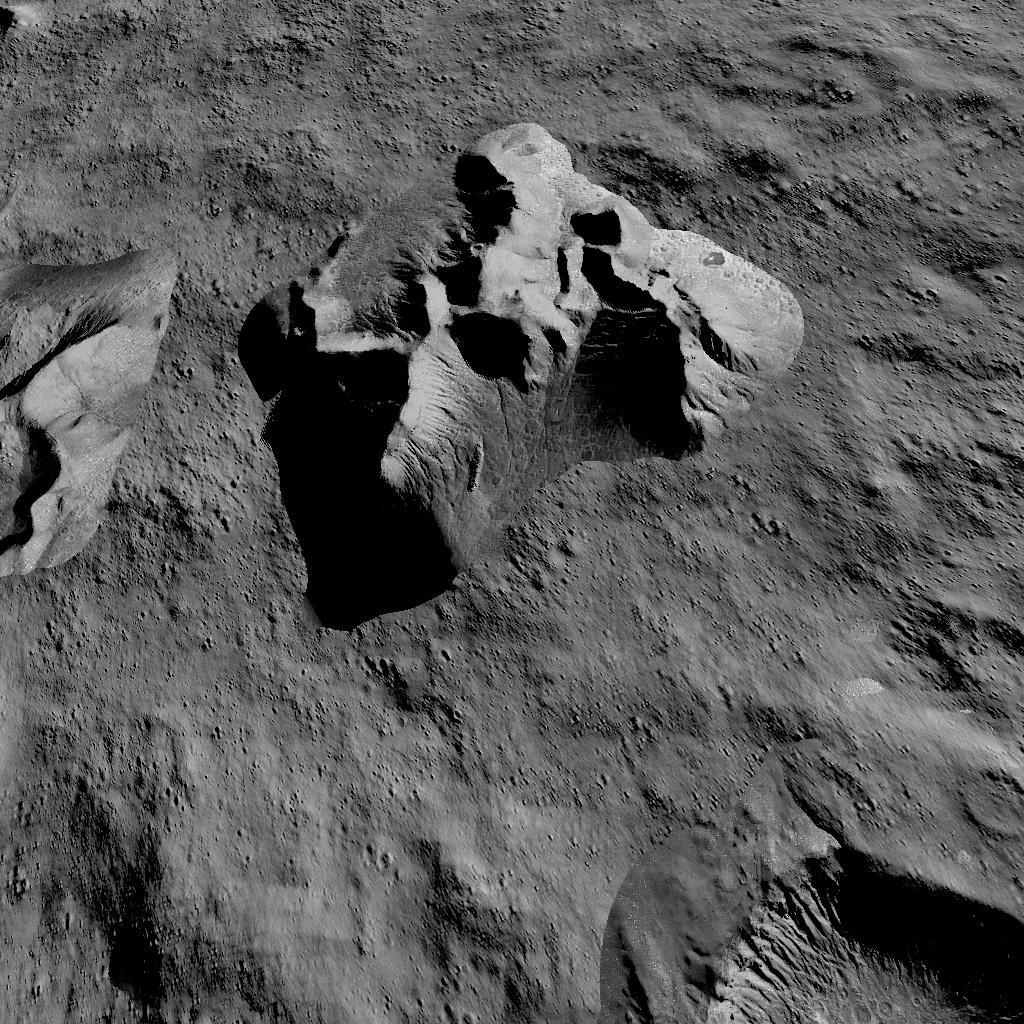Boulders: (236, 114, 808, 632), (0, 238, 192, 580)
Crater: (679, 822, 1024, 1024), (907, 588, 1024, 737), (94, 908, 188, 1016)
Plan surface: (214, 656, 660, 1024), (827, 112, 1024, 548), (233, 0, 1024, 99), (7, 606, 198, 886), (10, 0, 212, 210), (688, 655, 884, 794)
